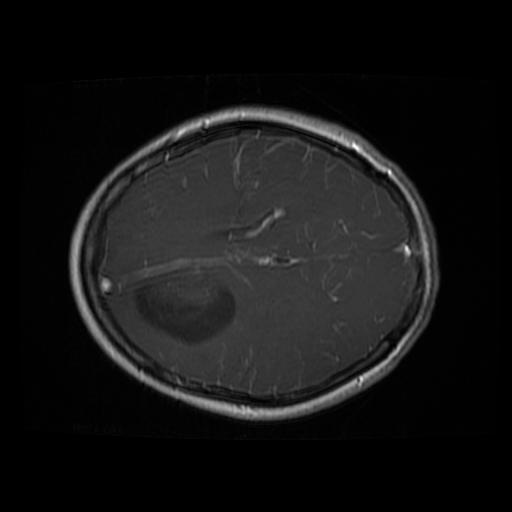glioma: (132, 265, 239, 348)
